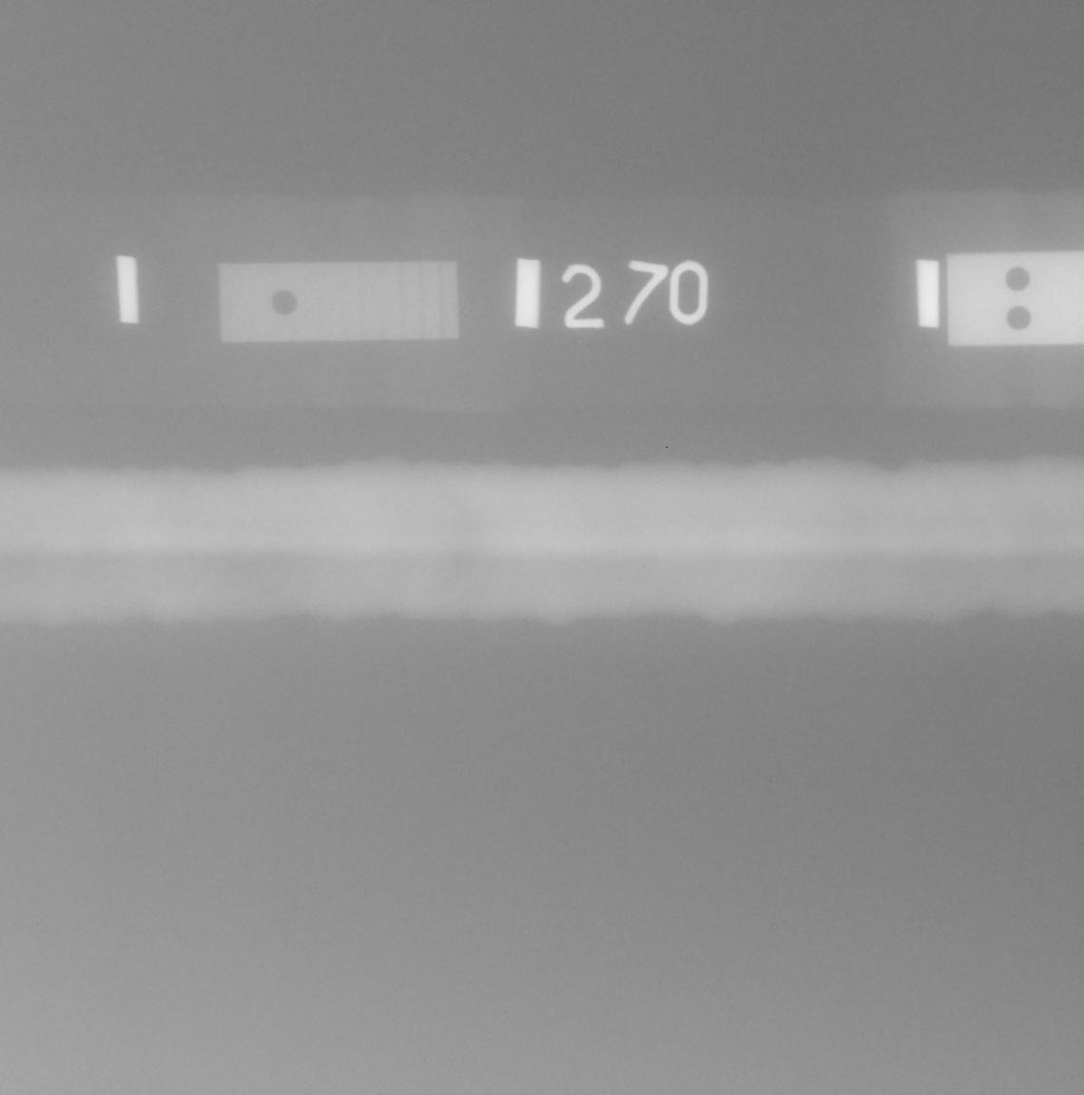Reference Standard 1: (219, 262, 458, 342)
